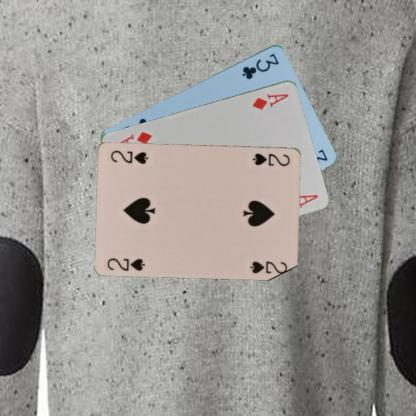2s: (105, 254, 146, 272), (250, 150, 292, 167)
3c: (239, 50, 280, 80)
Ad: (250, 91, 290, 111)
